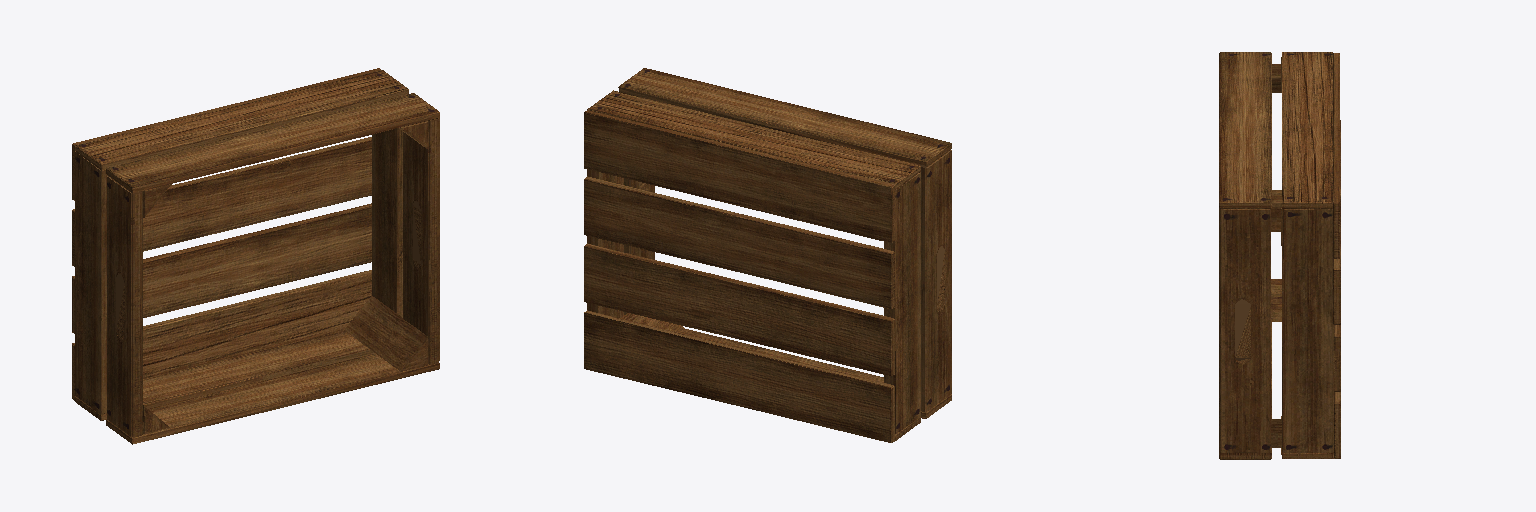
The picture shows the model from 3 angles: view 1: azimuth 30°, elevation 25°; view 2: azimuth 150°, elevation 25°; view 3: azimuth 270°, elevation 25°; orthographic projection.
Parts seen in each view (by area): view 1: Object.49, Object.40, Object.41, Object.50, Object.39, Object.51, Object.3, Object.53, Object.2, Object.5, Object.4, Object.8 (+10 smaller); view 2: Object.49, Object.6, Object.9, Object.52, Object.8, Object.7, Object.51, Object.53, Object.4, Object.5, Object.12, Object.10 (+3 smaller); view 3: Object.43, Object.33, Object.51, Object.49, Object.1, Object.11, Object.5, Object.4, Object.6, Object.50, Object.7.
Boxes of the visible parts, <box> form: Object.49: <box>72,68,407,420</box>; Object.40: <box>143,207,371,317</box>; Object.41: <box>75,270,371,396</box>; Object.50: <box>106,132,438,444</box>; Object.39: <box>143,141,371,251</box>; Object.51: <box>108,93,438,192</box>; Object.3: <box>75,331,374,420</box>; Object.53: <box>107,176,131,436</box>; Object.2: <box>106,354,439,443</box>; Object.5: <box>76,70,408,169</box>; Object.4: <box>106,93,439,191</box>; Object.8: <box>72,203,371,333</box>; Object.49: <box>584,90,920,442</box>; Object.6: <box>585,110,894,241</box>; Object.9: <box>584,310,894,442</box>; Object.52: <box>584,247,894,375</box>; Object.8: <box>584,243,894,375</box>; Object.7: <box>584,176,894,308</box>; Object.51: <box>618,68,949,167</box>; Object.53: <box>927,150,951,410</box>; Object.4: <box>619,75,951,166</box>; Object.5: <box>589,95,920,189</box>; Object.12: <box>921,152,947,411</box>; Object.10: <box>885,172,920,424</box>; Object.43: <box>1221,210,1269,452</box>; Object.33: <box>1281,209,1332,452</box>; Object.51: <box>1220,52,1271,201</box>; Object.49: <box>1281,52,1340,452</box>; Object.1: <box>1282,209,1333,451</box>; Object.11: <box>1219,208,1270,452</box>; Object.5: <box>1282,109,1332,208</box>; Object.4: <box>1219,53,1271,208</box>; Object.6: <box>1333,53,1339,258</box>; Object.50: <box>1221,209,1271,455</box>; Object.7: <box>1333,120,1340,324</box>.
Size of the model in its own units: 0.512 by 0.4084 by 0.175.
1 materials, 1 textured.